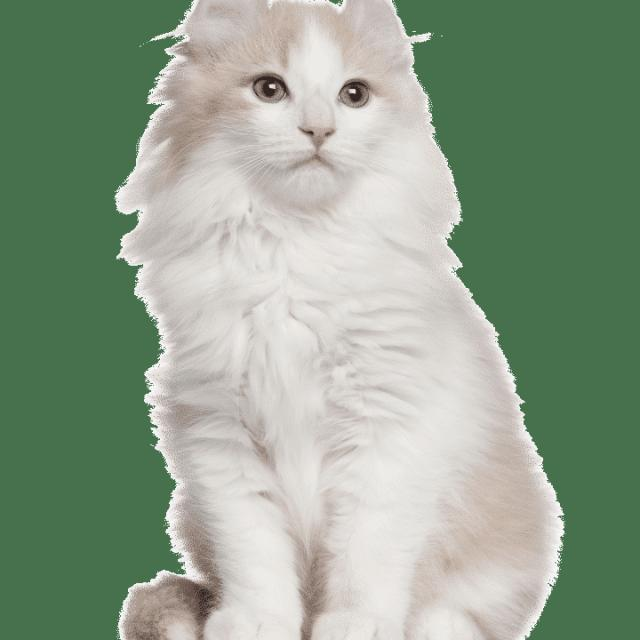American Curl: (112, 0, 557, 640)
